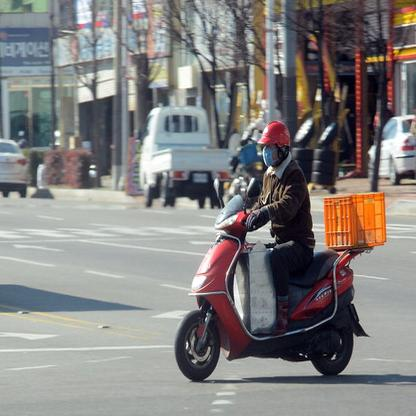target: (174, 120, 387, 381)
